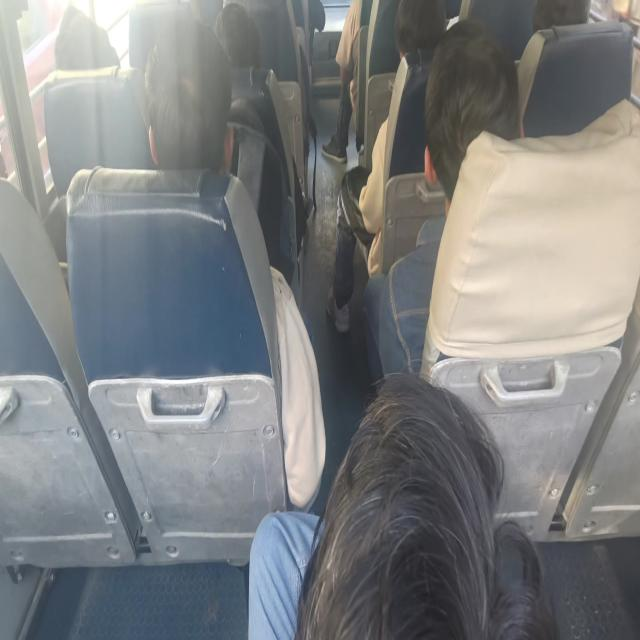person: (312, 374, 550, 640), (147, 28, 230, 196), (424, 46, 523, 170), (385, 0, 449, 77), (50, 3, 108, 86), (211, 2, 263, 76), (520, 0, 595, 50)
